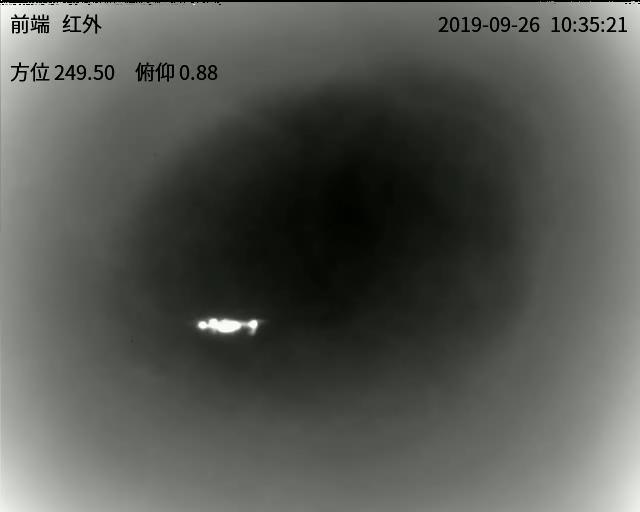uav: (191, 314, 265, 341)
